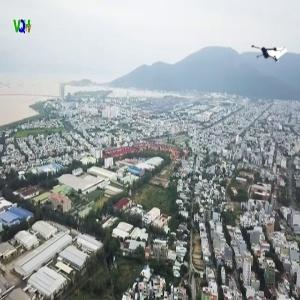drone: (248, 34, 284, 70)
